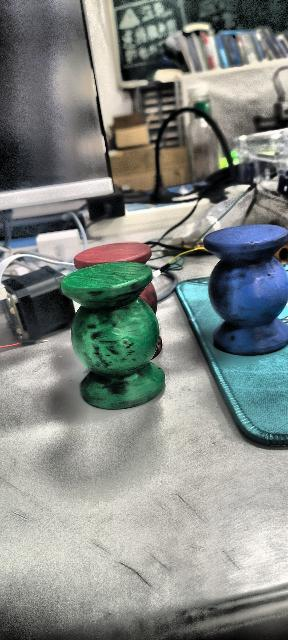blue: (203, 223, 287, 355)
green: (61, 262, 164, 410)
red: (141, 269, 163, 359), (75, 244, 152, 269)
